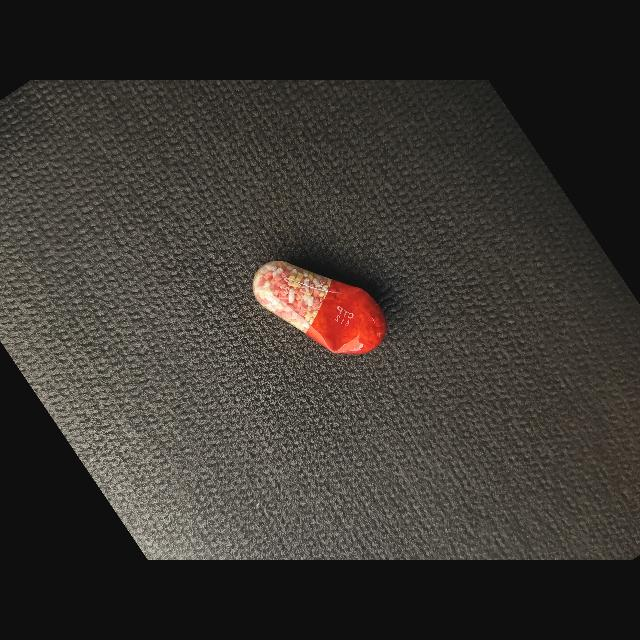Defective Capsule: (252, 260, 386, 354)
